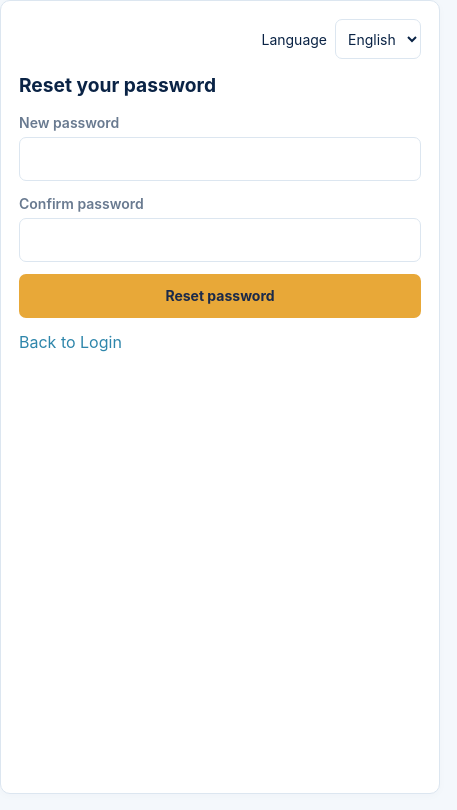
Test: public authentication flows › scrubs a reset token and validates password confirmation
The image size is (457, 810).
In the password field labelled "New password": point(220, 159) top-left (19, 137), bottom-right (421, 181), type "password123"
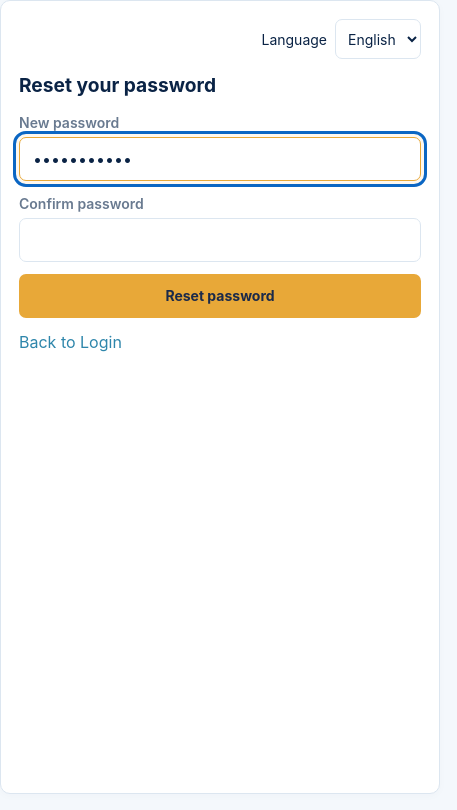
In the password field labelled "Confirm password": point(220, 240) top-left (19, 218), bottom-right (421, 262), type "password123"
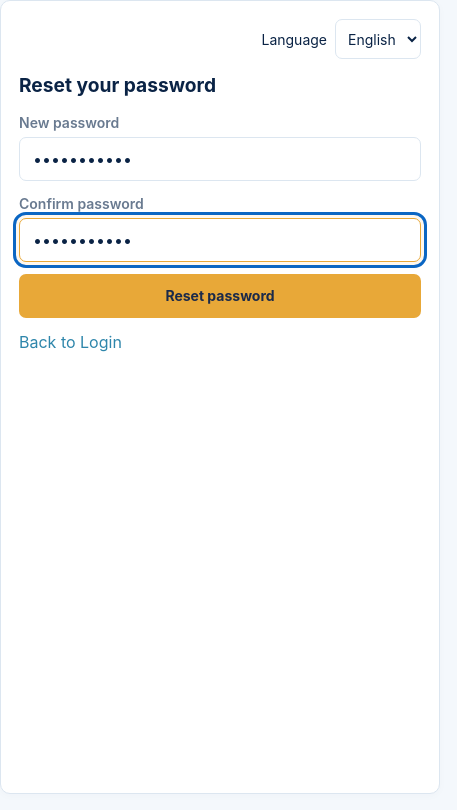
Click the button "Reset password": point(220, 296) top-left (19, 274), bottom-right (421, 318)
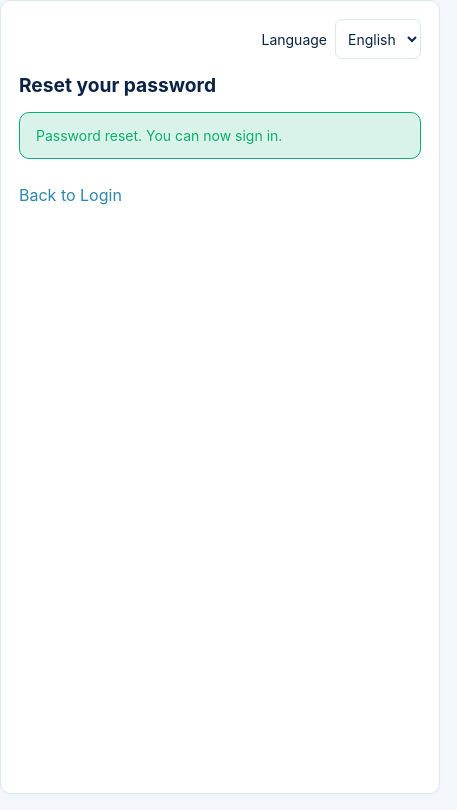
Expected: the text "Password reset. You can now sign in." is shown, top-left (19, 112), bottom-right (421, 159)
